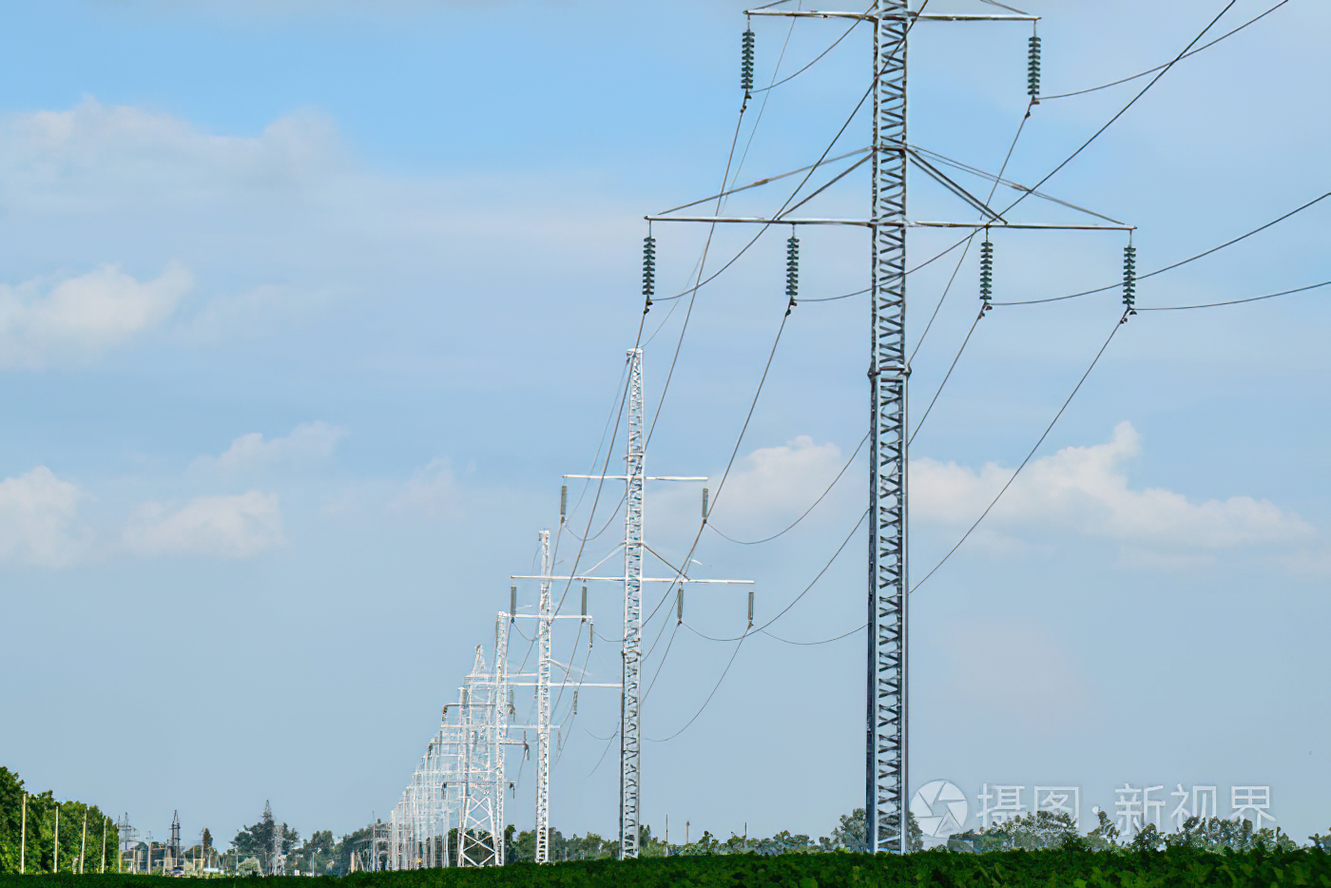insulator: (1118, 244, 1139, 304), (739, 28, 759, 90), (975, 241, 996, 299), (1023, 36, 1043, 94), (783, 237, 801, 293), (643, 235, 657, 299)
